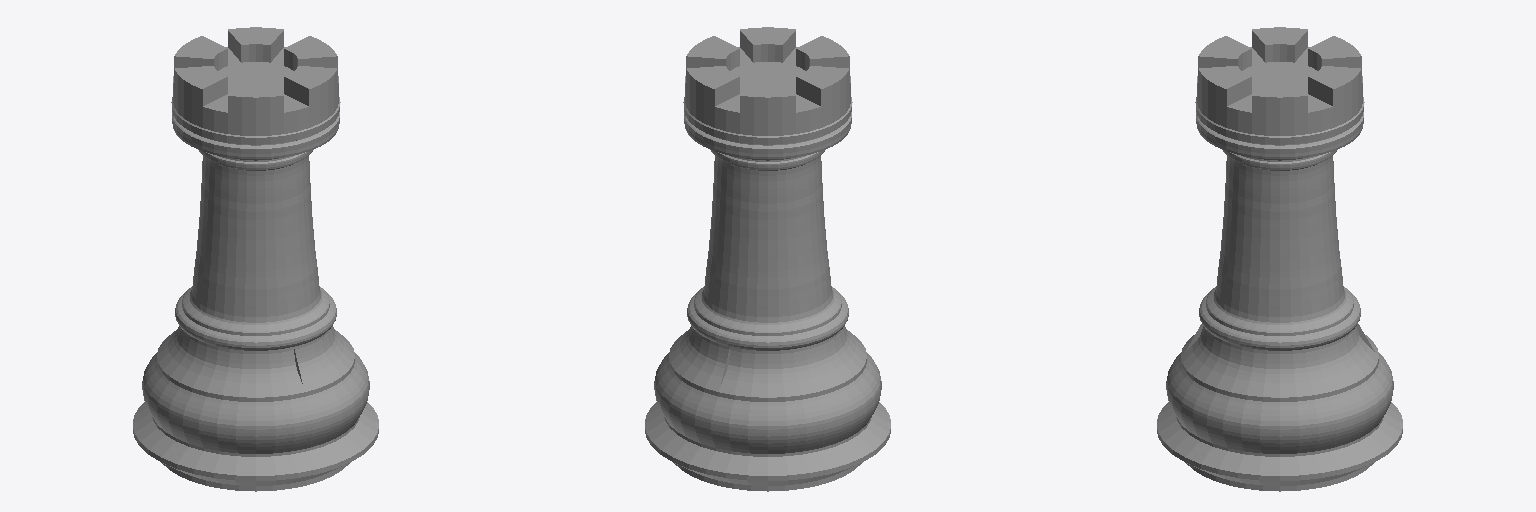
Rendered from Rook.obj.
The picture shows the model from 3 angles: view 1: azimuth 30°, elevation 25°; view 2: azimuth 150°, elevation 25°; view 3: azimuth 270°, elevation 25°; orthographic projection.
Visible parts, largest first — view 1: Plane; view 2: Plane; view 3: Plane.
Boxes of the visible parts, box(x1,y1,x2,y2) form: Plane: box(133, 27, 378, 491); Plane: box(645, 27, 890, 491); Plane: box(1157, 27, 1402, 491).
Size of the model in its own units: 4.91 by 8.5 by 4.91.